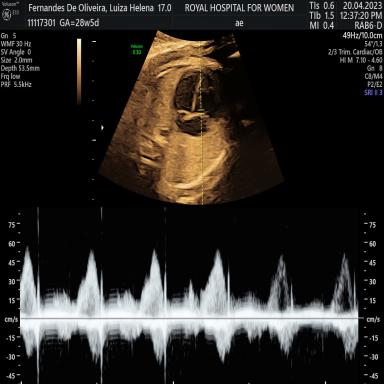Ultrasound-Waves: (25, 209, 357, 384)
